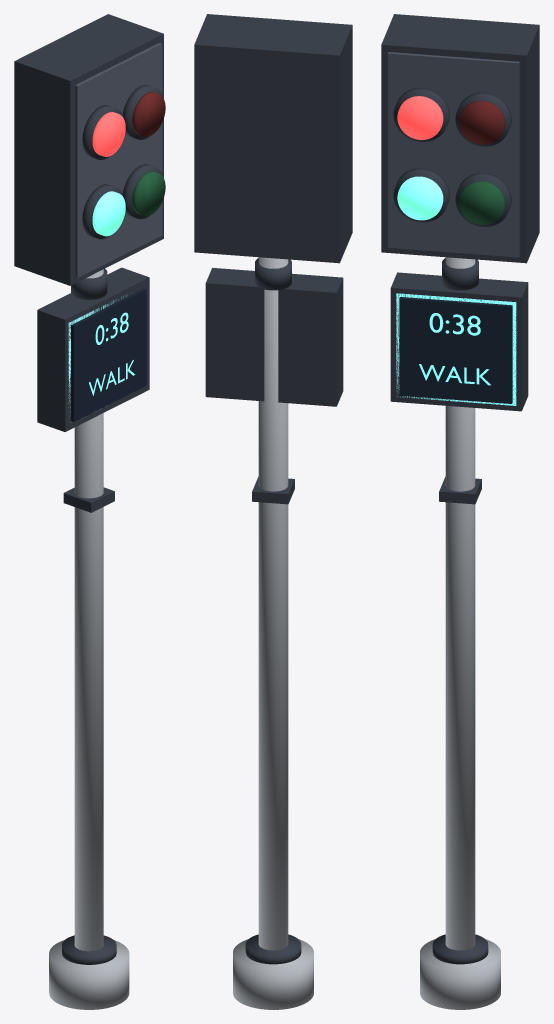
Rendered from signal.glb.
3 renders of one model, left to right at view 1: azimuth 30°, elevation 25°; view 2: azimuth 150°, elevation 25°; view 3: azimuth 330°, elevation 25°, orthographic.
Parts seen in each view (by area): view 1: Traffic_Light_Head, Traffic_Light_Pole, Traffic_Light_Head_Face, Traffic_Light_Display, Traffic_Light_Display_Frame, Traffic_Light_Base, Traffic_Light_Lamp_Green_Off, Traffic_Light_Lamp_Red_Off, Traffic_Light_Lamp_Green_On, Traffic_Light_Lamp_Red_On, Traffic_Light_Base_Ring, Traffic_Light_Mount (+5 smaller); view 2: Traffic_Light_Head, Traffic_Light_Pole, Traffic_Light_Display_Frame, Traffic_Light_Base, Traffic_Light_Base_Ring, Traffic_Light_Mount, Traffic_Light_Pole_Band; view 3: Traffic_Light_Pole, Traffic_Light_Head_Face, Traffic_Light_Head, Traffic_Light_Display, Traffic_Light_Display_Frame, Traffic_Light_Base, Traffic_Light_Lamp_Green_On, Traffic_Light_Lamp_Green_Off, Traffic_Light_Lamp_Red_On, Traffic_Light_Lamp_Red_Off, Traffic_Light_Display_Border, Traffic_Light_Base_Ring (+8 smaller).
Part boxes in pixels (x1,y1,x2,y2): Traffic_Light_Head: [14, 14, 163, 285]; Traffic_Light_Pole: [74, 269, 103, 951]; Traffic_Light_Head_Face: [75, 43, 162, 277]; Traffic_Light_Display: [71, 288, 146, 421]; Traffic_Light_Display_Frame: [37, 267, 149, 431]; Traffic_Light_Base: [49, 940, 129, 1009]; Traffic_Light_Lamp_Green_Off: [132, 171, 165, 216]; Traffic_Light_Lamp_Red_Off: [132, 92, 165, 136]; Traffic_Light_Lamp_Green_On: [92, 191, 125, 236]; Traffic_Light_Lamp_Red_On: [92, 112, 125, 156]; Traffic_Light_Base_Ring: [62, 935, 116, 964]; Traffic_Light_Mount: [71, 268, 107, 299]; Traffic_Light_Head: [194, 14, 352, 263]; Traffic_Light_Pole: [258, 257, 288, 950]; Traffic_Light_Display_Frame: [205, 267, 343, 406]; Traffic_Light_Base: [233, 939, 313, 1009]; Traffic_Light_Base_Ring: [245, 934, 301, 964]; Traffic_Light_Mount: [255, 258, 291, 290]; Traffic_Light_Pole_Band: [252, 476, 294, 504]; Traffic_Light_Pole: [445, 257, 475, 950]; Traffic_Light_Head_Face: [388, 52, 519, 257]; Traffic_Light_Head: [381, 14, 539, 263]; Traffic_Light_Display: [399, 297, 512, 403]; Traffic_Light_Display_Frame: [390, 272, 528, 411]; Traffic_Light_Base: [420, 939, 500, 1009]; Traffic_Light_Lamp_Green_On: [397, 176, 443, 220]; Traffic_Light_Lamp_Green_Off: [459, 181, 505, 224]; Traffic_Light_Lamp_Red_On: [397, 96, 443, 139]; Traffic_Light_Lamp_Red_Off: [459, 100, 505, 144]; Traffic_Light_Display_Border: [396, 293, 516, 405]; Traffic_Light_Base_Ring: [432, 934, 488, 964].
Size of the model in its own units: 1.75 by 11.3 by 1.4.
